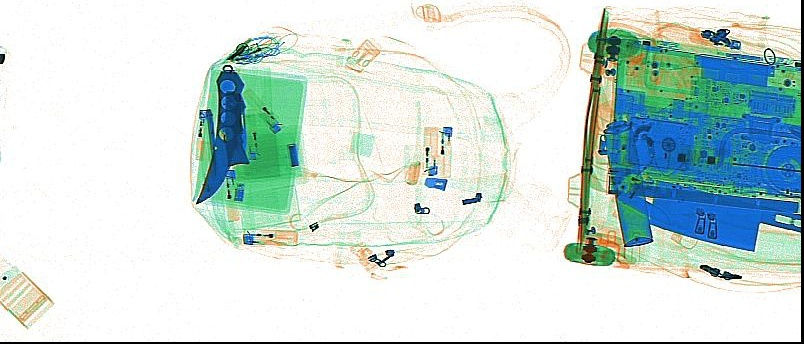knife: (647, 178, 799, 252), (195, 63, 245, 203), (614, 186, 672, 226), (223, 89, 250, 167), (217, 68, 239, 142)
lighter: (242, 87, 285, 134), (242, 107, 264, 161), (420, 123, 441, 177), (241, 226, 297, 246), (221, 169, 241, 222), (193, 107, 211, 161), (437, 125, 453, 178)
pressure: (595, 95, 653, 247)
